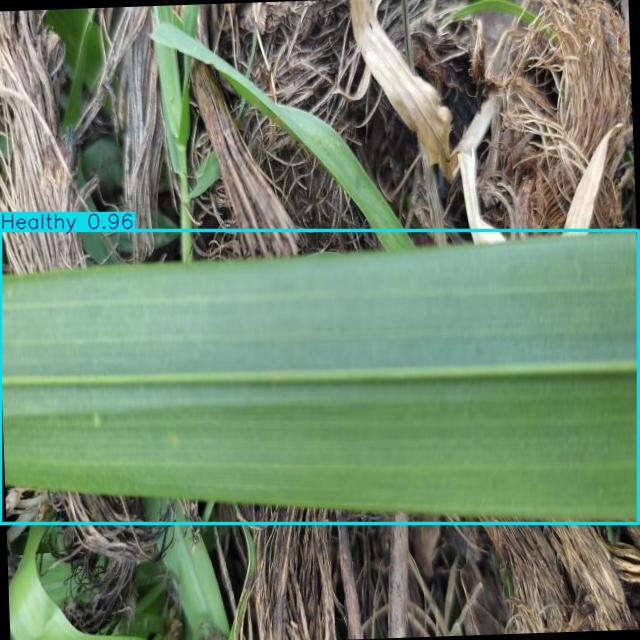Healthy: (0, 231, 638, 523)
